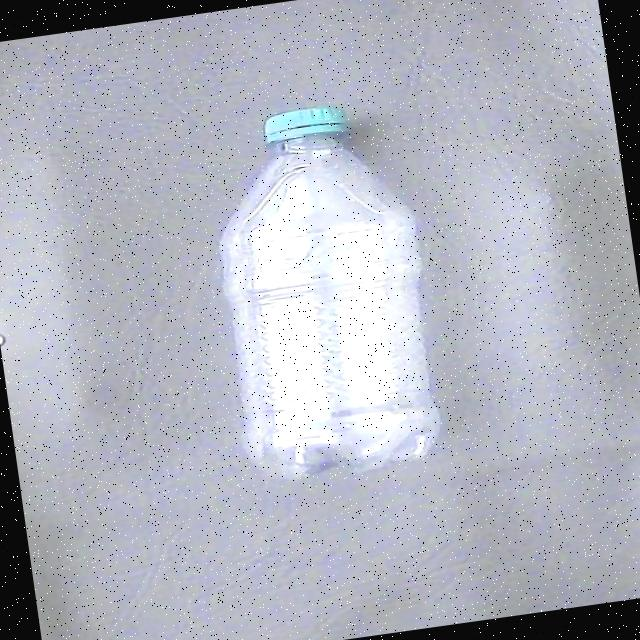bottle: (189, 92, 458, 490)
cap: (253, 103, 357, 145)
